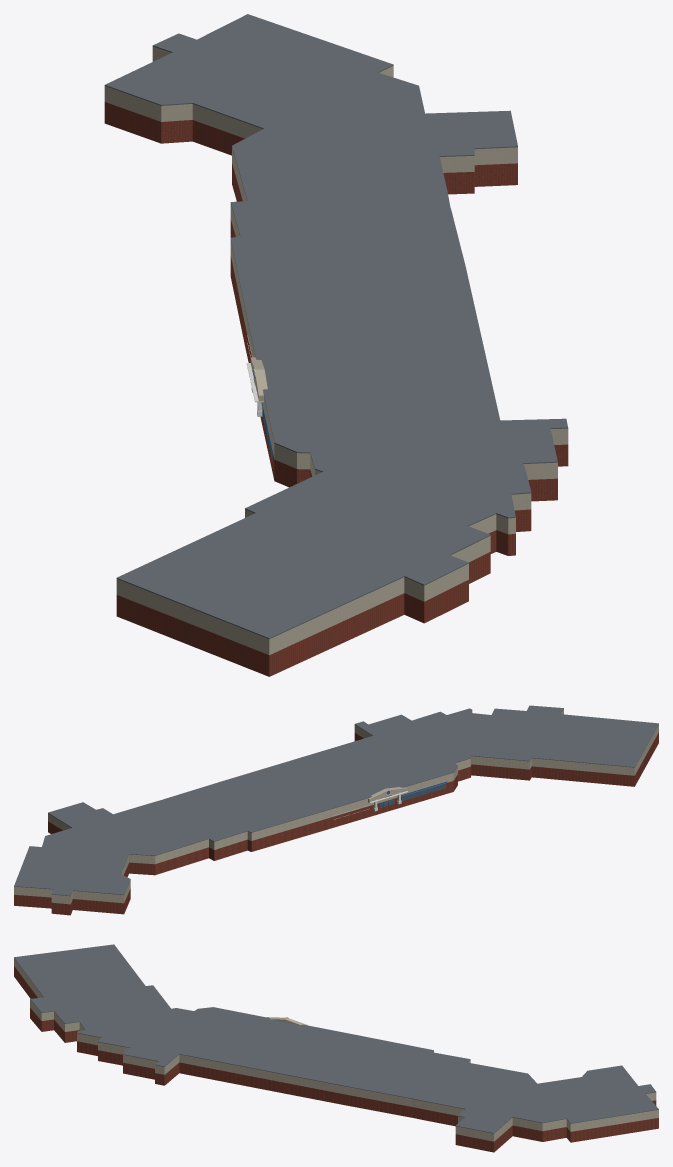
File: way-77772361.glb
The picture shows the model from 3 angles, top to bottom: view 1: azimuth 30°, elevation 25°; view 2: azimuth 150°, elevation 25°; view 3: azimuth 270°, elevation 25°; orthographic projection. The views are drawn at different scales.
Visible parts, largest first — view 1: CityBuilding_way-77772361_Lansdowne_|_charcoal_roof_metal, CityBuilding_way-77772361_Lansdowne_|_brown_brick, CityBuilding_way-77772361_Lansdowne_|_pale_taupe_siding; view 2: CityBuilding_way-77772361_Lansdowne_|_charcoal_roof_metal, CityBuilding_way-77772361_Lansdowne_|_brown_brick, CityBuilding_way-77772361_Lansdowne_|_pale_taupe_siding, CityBuilding_way-77772361_Lansdowne_|_reflective_dark_glazin; view 3: CityBuilding_way-77772361_Lansdowne_|_charcoal_roof_metal, CityBuilding_way-77772361_Lansdowne_|_brown_brick, CityBuilding_way-77772361_Lansdowne_|_pale_taupe_siding.
Boxes of the visible parts, x1,y1,x2,y2 form: CityBuilding_way-77772361_Lansdowne_|_charcoal_roof_metal: (104,14,568,639); CityBuilding_way-77772361_Lansdowne_|_brown_brick: (104,102,568,676); CityBuilding_way-77772361_Lansdowne_|_pale_taupe_siding: (104,46,568,655); CityBuilding_way-77772361_Lansdowne_|_charcoal_roof_metal: (14,705,658,896); CityBuilding_way-77772361_Lansdowne_|_brown_brick: (14,732,658,915); CityBuilding_way-77772361_Lansdowne_|_pale_taupe_siding: (14,709,658,904); CityBuilding_way-77772361_Lansdowne_|_reflective_dark_glazin: (380,783,445,807); CityBuilding_way-77772361_Lansdowne_|_charcoal_roof_metal: (14,944,658,1133); CityBuilding_way-77772361_Lansdowne_|_brown_brick: (14,966,658,1152); CityBuilding_way-77772361_Lansdowne_|_pale_taupe_siding: (14,958,658,1141).
Bounding box in the file's own units: 314 × 17.3 × 453.
Materials: 6 (2 with a texture image).
